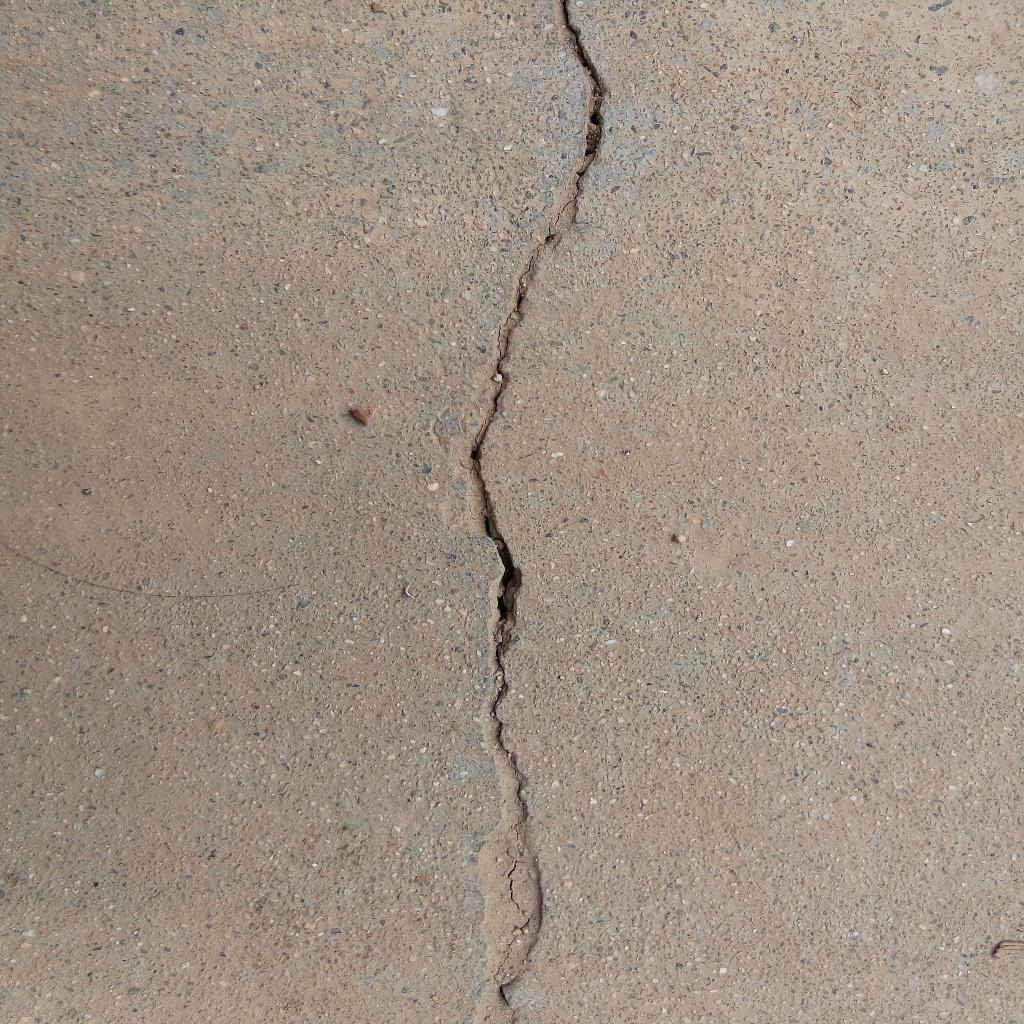Crack: (467, 1, 607, 1024)
